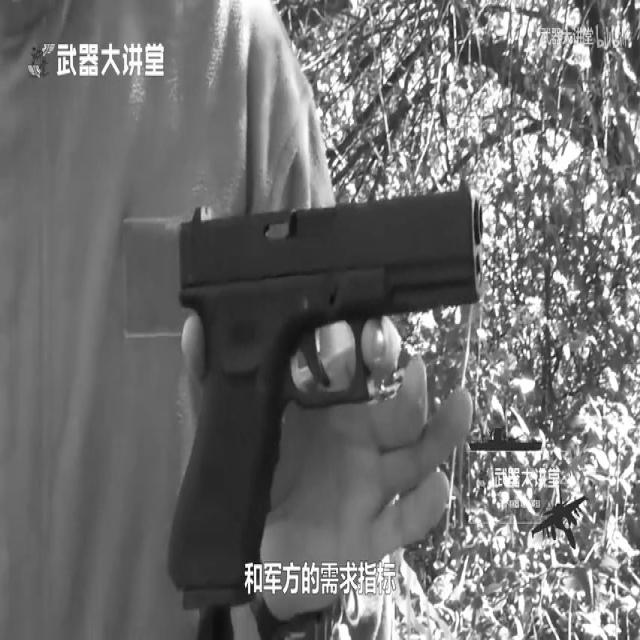Hand-Gun: (128, 84, 510, 640)
